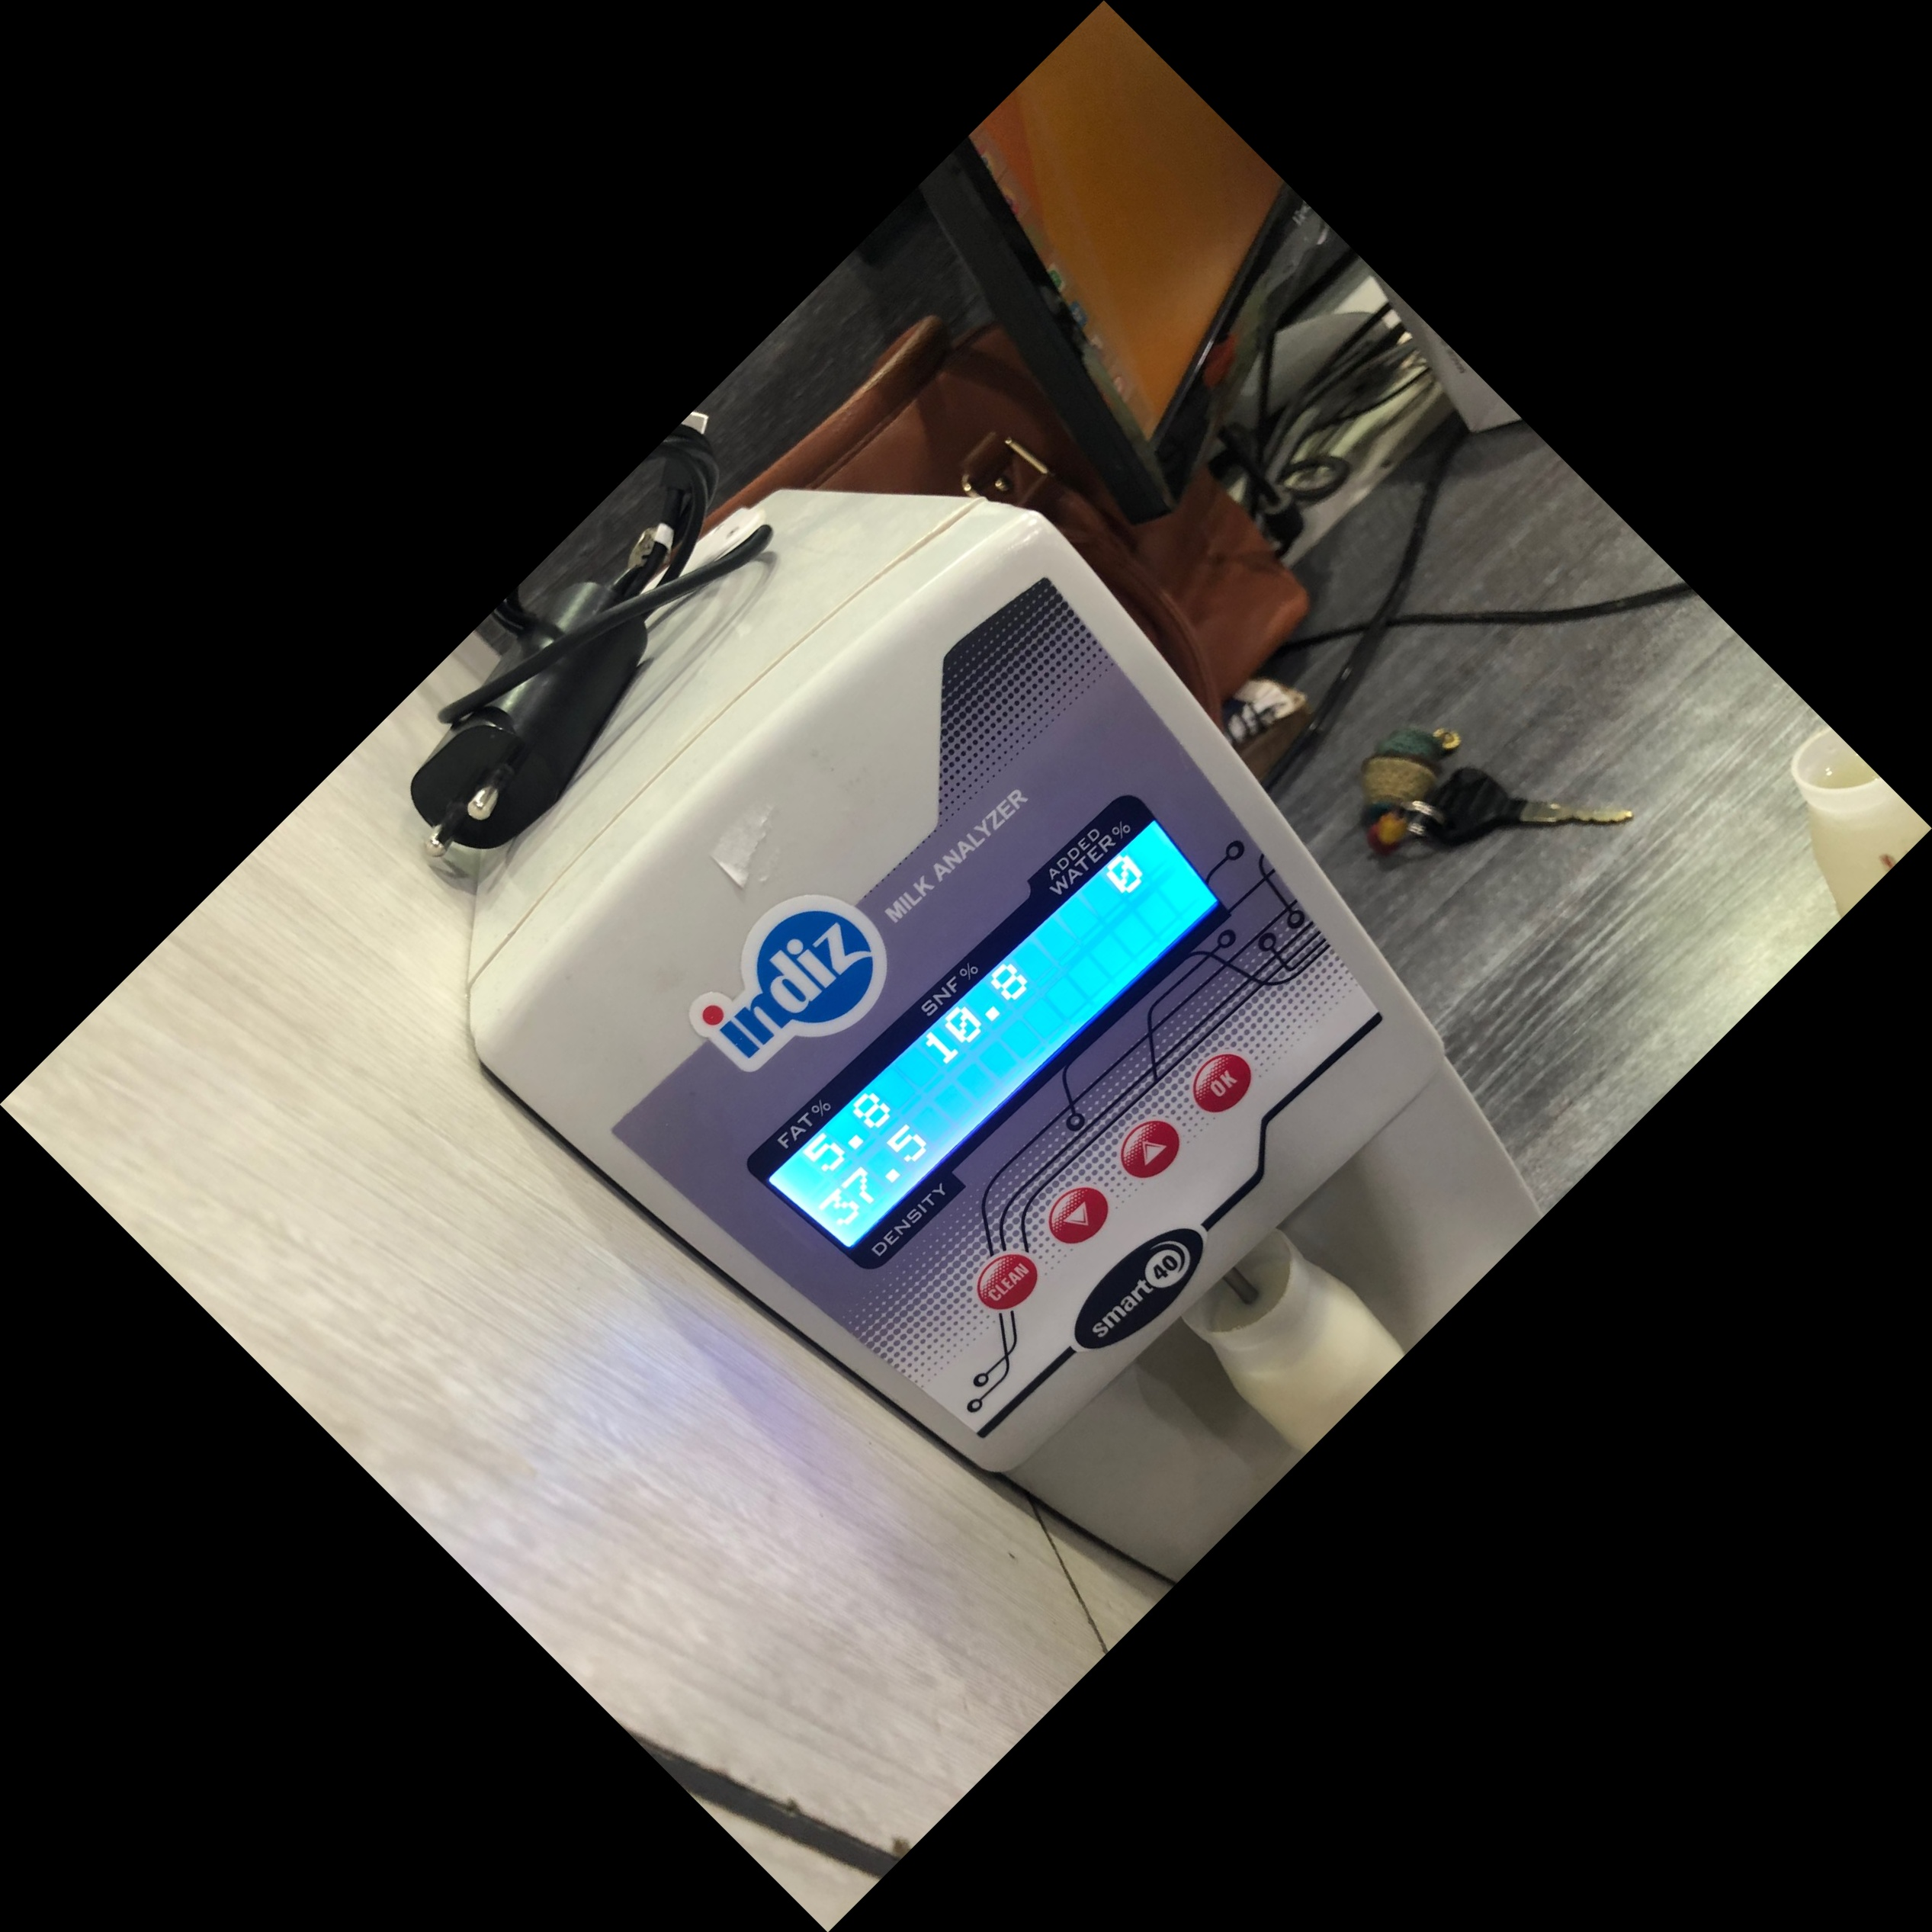lcd: (741, 812, 1254, 1292)
